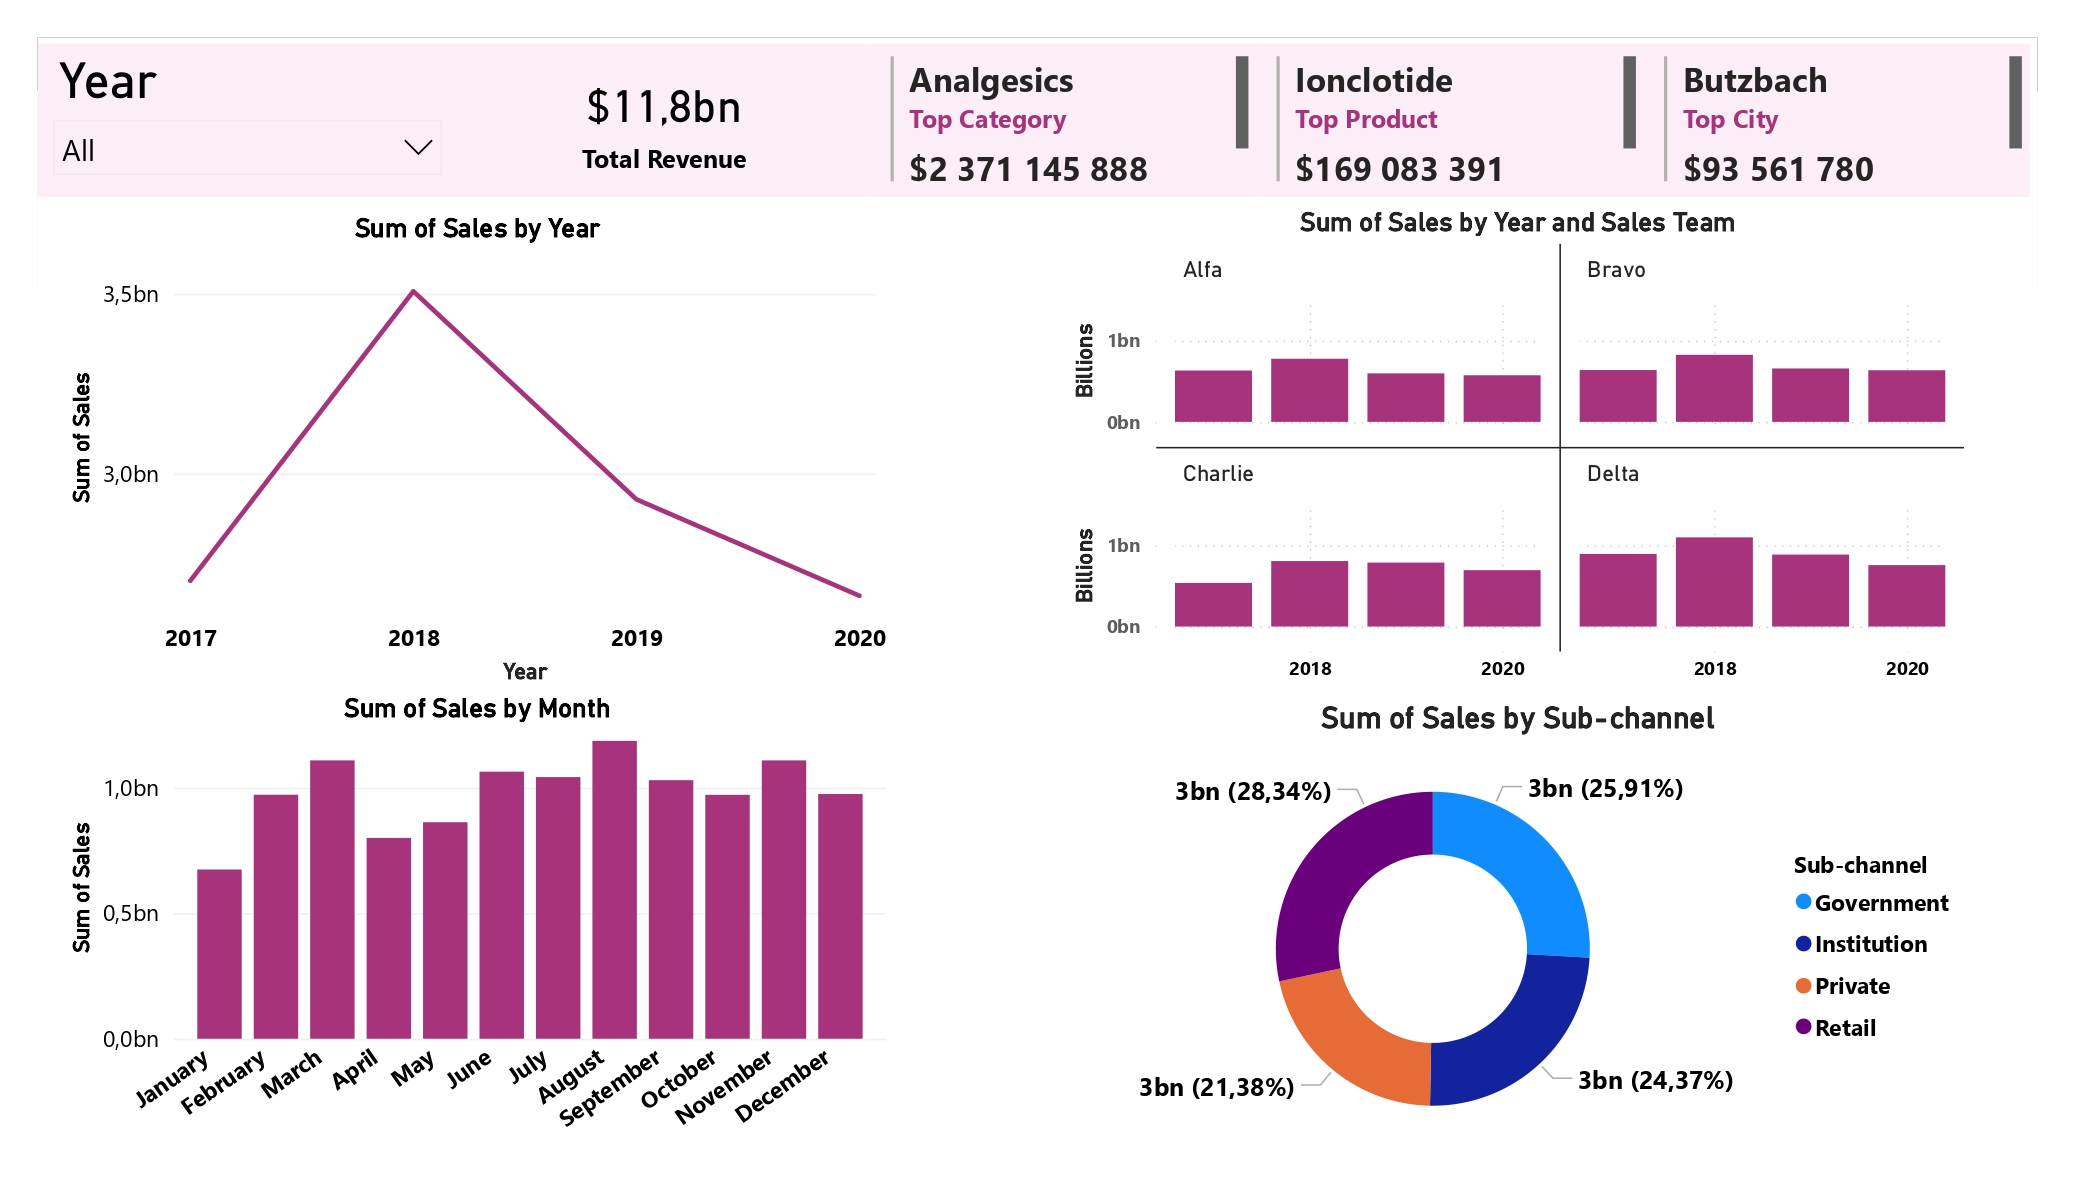

Layout of this report page (visuals, bound fields, positions):
{"tool":"powerbi","page":{"name":"Page 1","canvas":[1280,720],"ordinal":0},"visuals":[{"type":"card","fields":{"Values":["pharma-data.Total Revenue"]},"box":[269.2,4.1,263.7,98.4],"z":0},{"type":"slicer","fields":{"Values":["pharma-data.Year"]},"box":[0,4.1,269.2,98.4],"z":1000},{"type":"multiRowCard","fields":{"Values":["pharma-data.Top Category","pharma-data.Top Category Value"]},"box":[532.9,4.1,247.3,98.4],"z":4001},{"type":"multiRowCard","fields":{"Values":["pharma-data.Top Product","pharma-data.Top Product Value"]},"box":[780.2,4.1,247.3,98.4],"z":4002},{"type":"multiRowCard","fields":{"Values":["pharma-data.Top City","pharma-data.Top City Value"]},"box":[1027.5,4.1,247.3,98.4],"z":4003},{"type":"lineChart","fields":{"Category":["pharma-data.Year"],"Y":["Sum(pharma-data.Sales)"]},"box":[15,112,532.9,307.4],"z":4004},{"type":"columnChart","fields":{"Y":["Sum(pharma-data.Sales)"],"Category":["Calendar.Month"]},"box":[15,419.5,532.9,300.6],"z":4005},{"type":"clusteredColumnChart","fields":{"Y":["Sum(pharma-data.Sales)"],"Category":["pharma-data.Year"],"Rows":["pharma-data.Sales Team"]},"box":[657.2,107.9,580.7,315.6],"z":4006},{"type":"donutChart","fields":{"Y":["Sum(pharma-data.Sales)"],"Series":["pharma-data.Sub-channel"]},"box":[657,424,581,296],"z":4007}]}

Visuals, with their boxes in screenshot pixels (x1, y1, x2, y2):
card - pharma-data.Total Revenue: [x1=458, y1=44, x2=870, y2=198]
slicer - pharma-data.Year: [x1=38, y1=44, x2=458, y2=198]
multiRowCard - pharma-data.Top Category x pharma-data.Top Category Value: [x1=870, y1=44, x2=1257, y2=198]
multiRowCard - pharma-data.Top Product x pharma-data.Top Product Value: [x1=1257, y1=44, x2=1643, y2=198]
multiRowCard - pharma-data.Top City x pharma-data.Top City Value: [x1=1643, y1=44, x2=2029, y2=198]
lineChart - pharma-data.Year x Sum(pharma-data.Sales): [x1=61, y1=212, x2=894, y2=693]
columnChart - Sum(pharma-data.Sales) x Calendar.Month: [x1=61, y1=693, x2=894, y2=1162]
clusteredColumnChart - Sum(pharma-data.Sales) x pharma-data.Year: [x1=1064, y1=206, x2=1972, y2=699]
donutChart - Sum(pharma-data.Sales) x pharma-data.Sub-channel: [x1=1064, y1=700, x2=1972, y2=1162]
